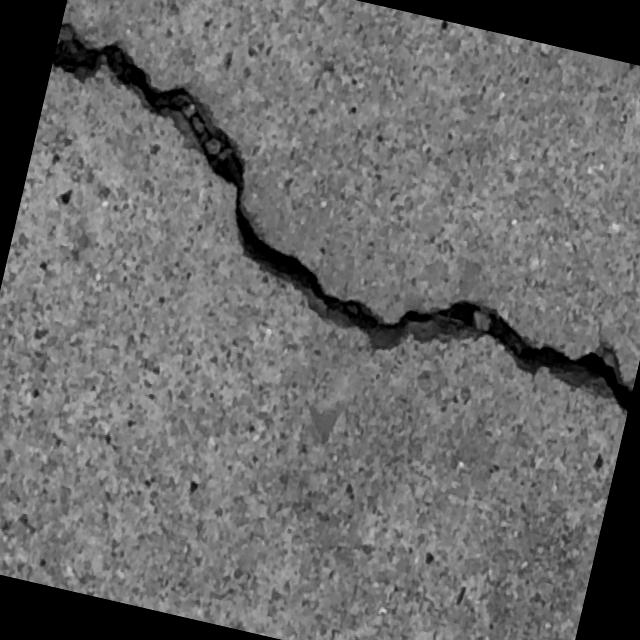crack: (3, 18, 640, 423)
